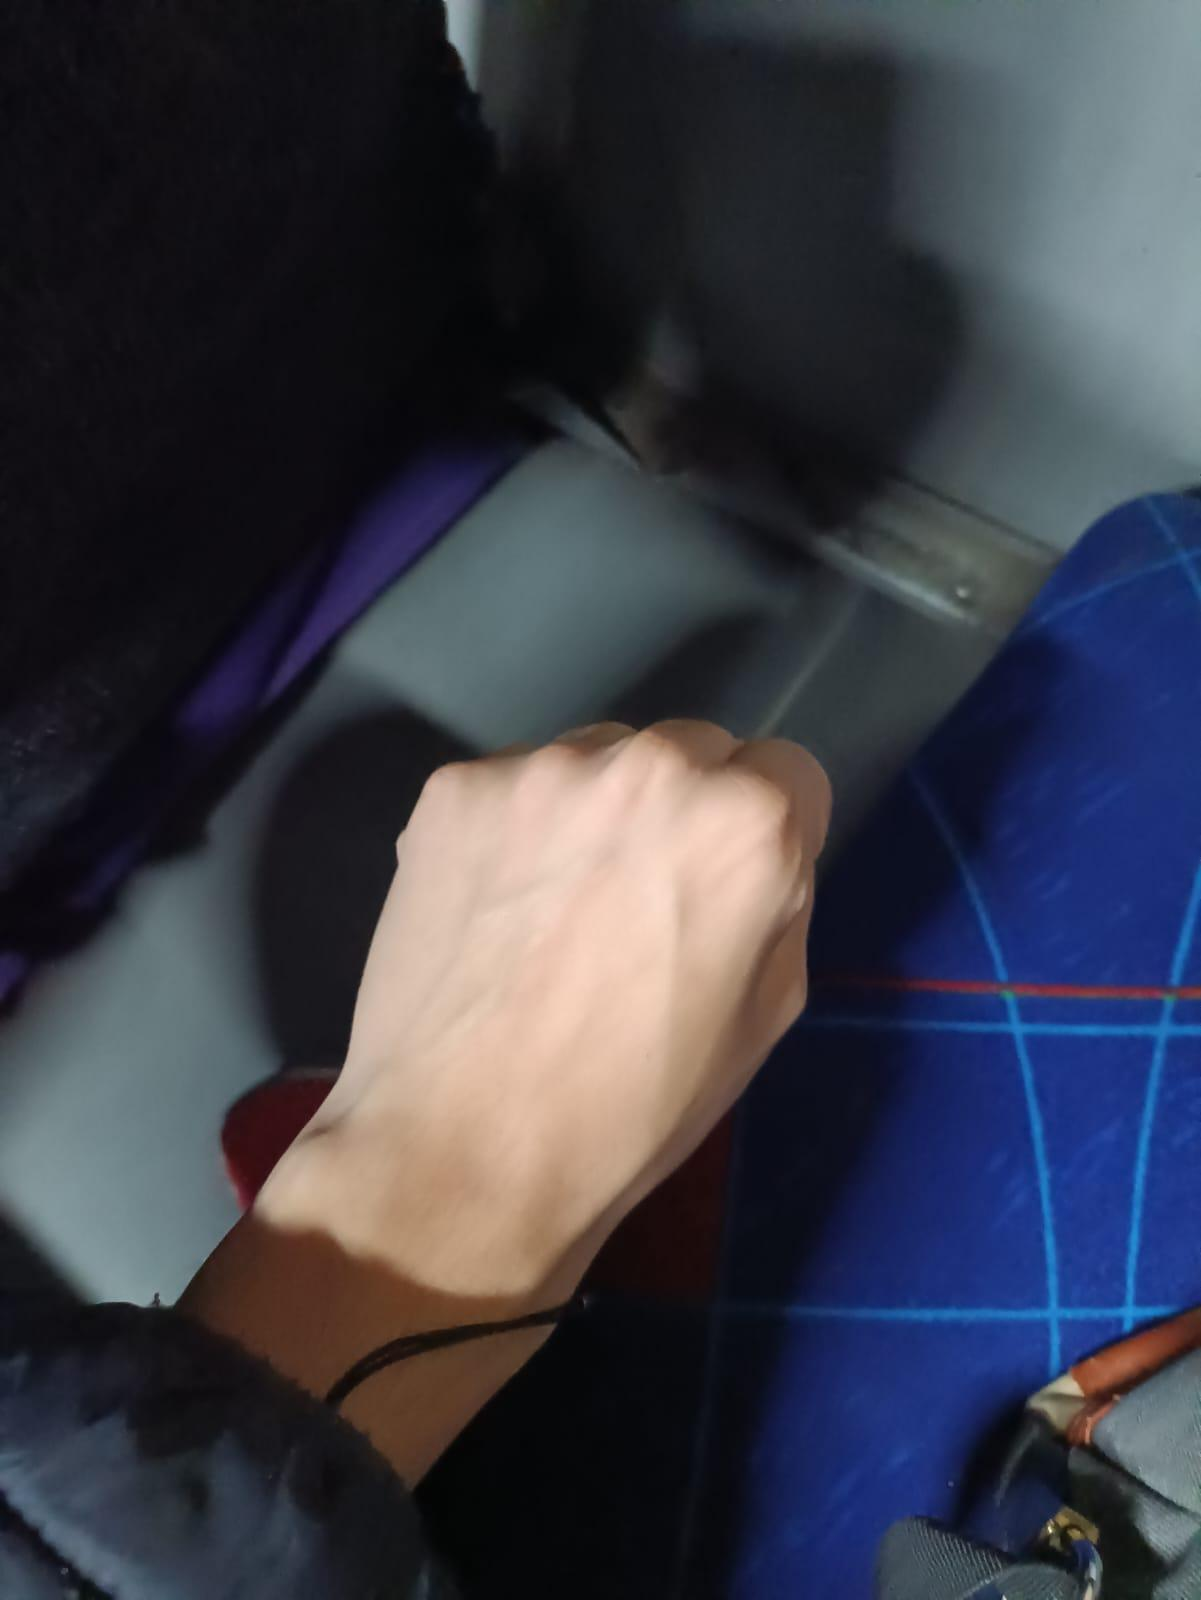Stone: (136, 680, 947, 1513)
